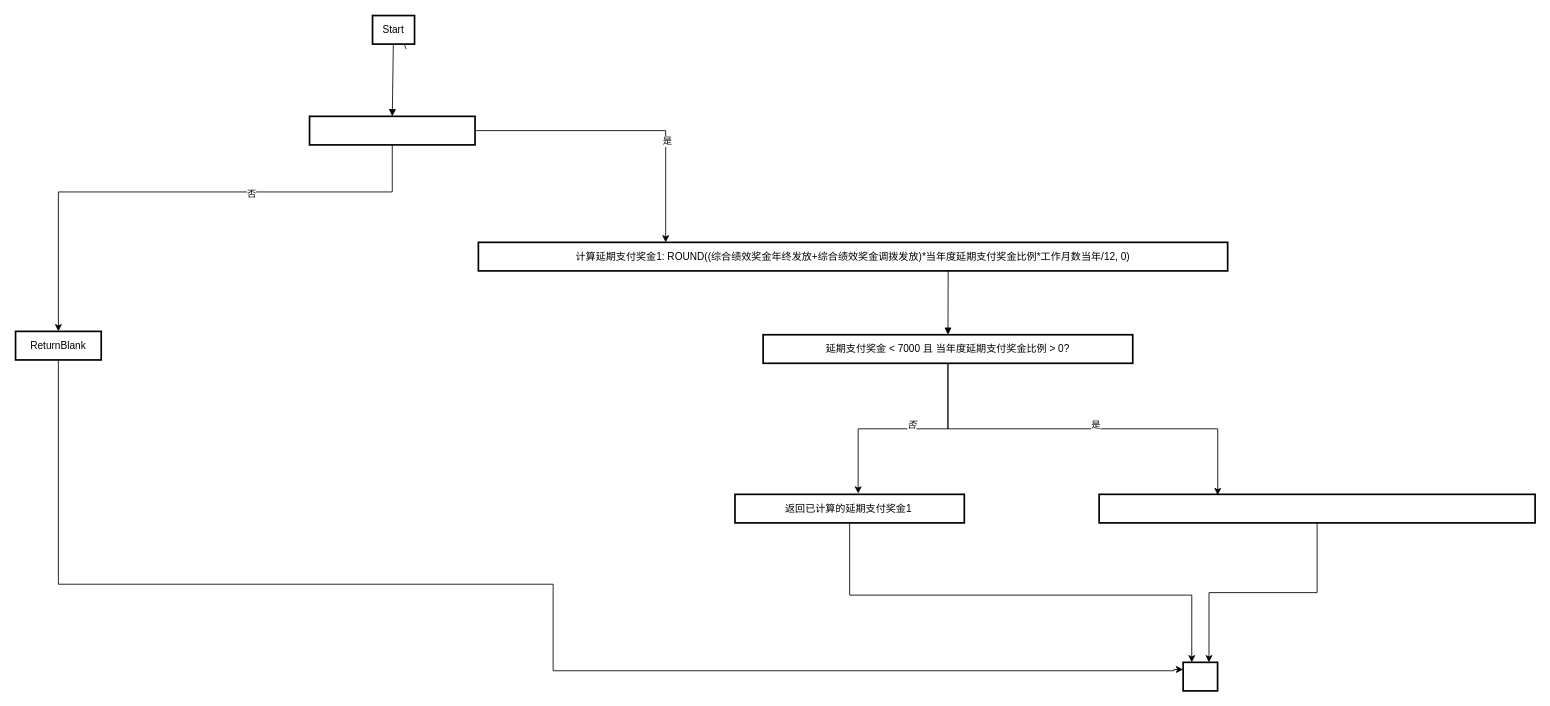
This 1550x706 diagram has some shape labels left out. The centre of each missing label's shape, as x and y in pixels:
End: point 1200,676
使用固定公式计算延期支付奖金2: ROUND(7000 * 工作月数当年 / 12, 0): point 1317,508
年终奖发放标记是否为空?: point 391,130
